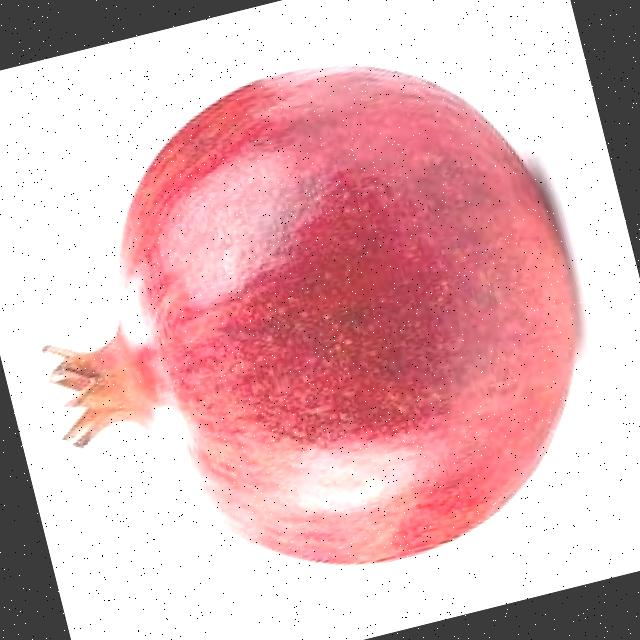Pomegranate: (0, 13, 630, 636)
